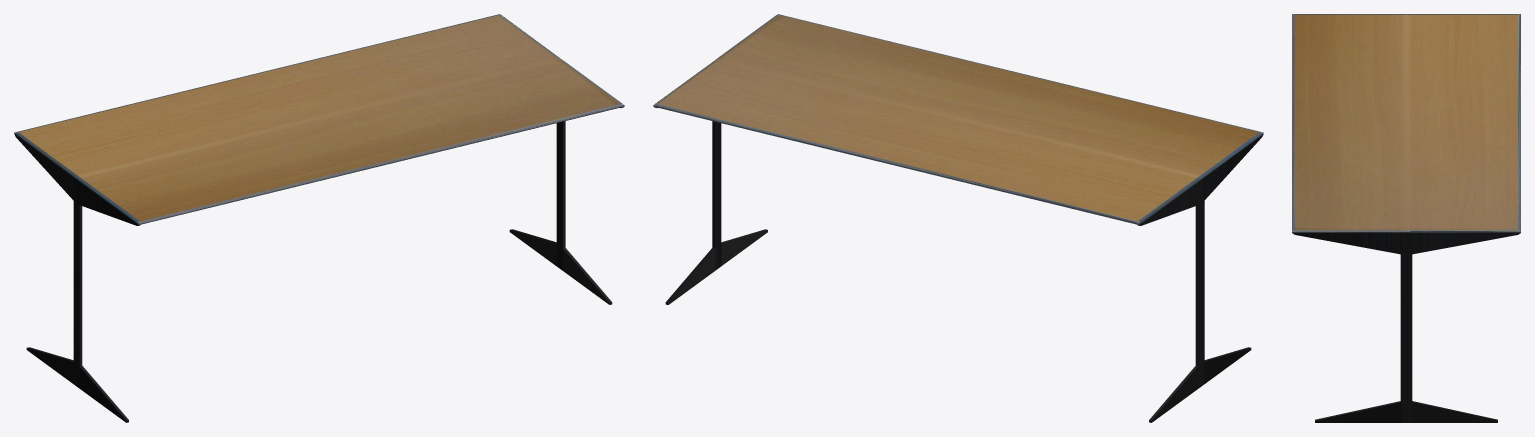
Rendered from table.DAE.
3 renders of one model, left to right at view 1: azimuth 30°, elevation 25°; view 2: azimuth 150°, elevation 25°; view 3: azimuth 270°, elevation 25°, orthographic. The views are drawn at different scales.
Parts seen in each view (by area): view 1: pCube1; view 2: pCube1; view 3: pCube1.
Boxes of the visible parts, box(x1,y1,x2,y2) form: pCube1: box(14, 14, 624, 422); pCube1: box(653, 14, 1263, 422); pCube1: box(1292, 14, 1520, 422).
Bounding box in the file's own units: 18 × 7.4 × 8.
